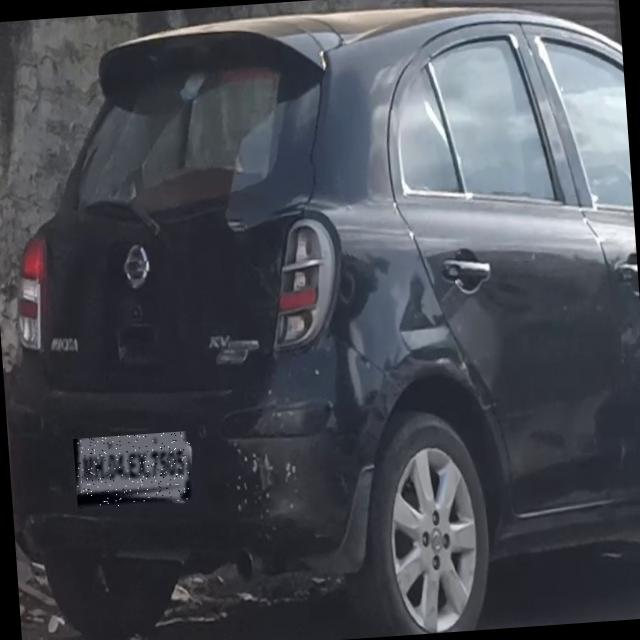Plate: (74, 432, 195, 510)
